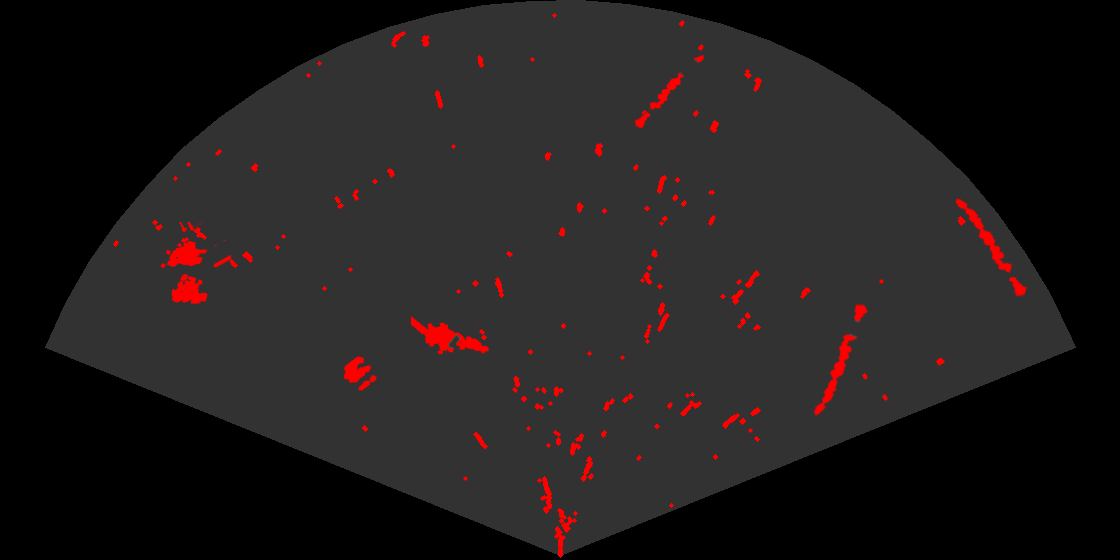ball: (342, 355, 378, 392)
cage: (159, 222, 231, 306)
chain: (954, 197, 1029, 298), (812, 302, 870, 417), (633, 53, 706, 130)
frogman: (411, 315, 490, 356)
